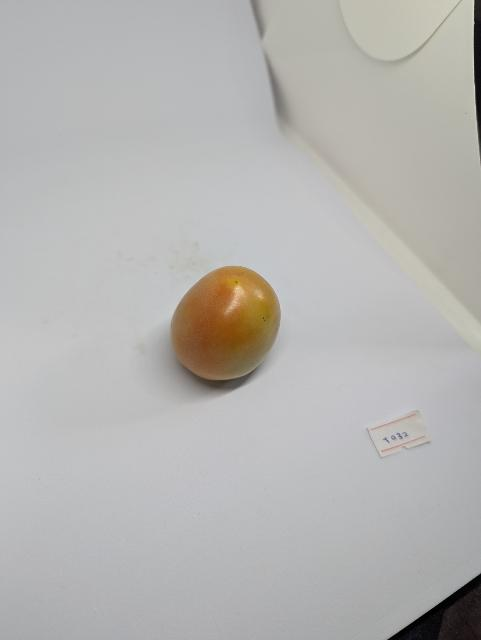turning: (163, 247, 290, 395)
